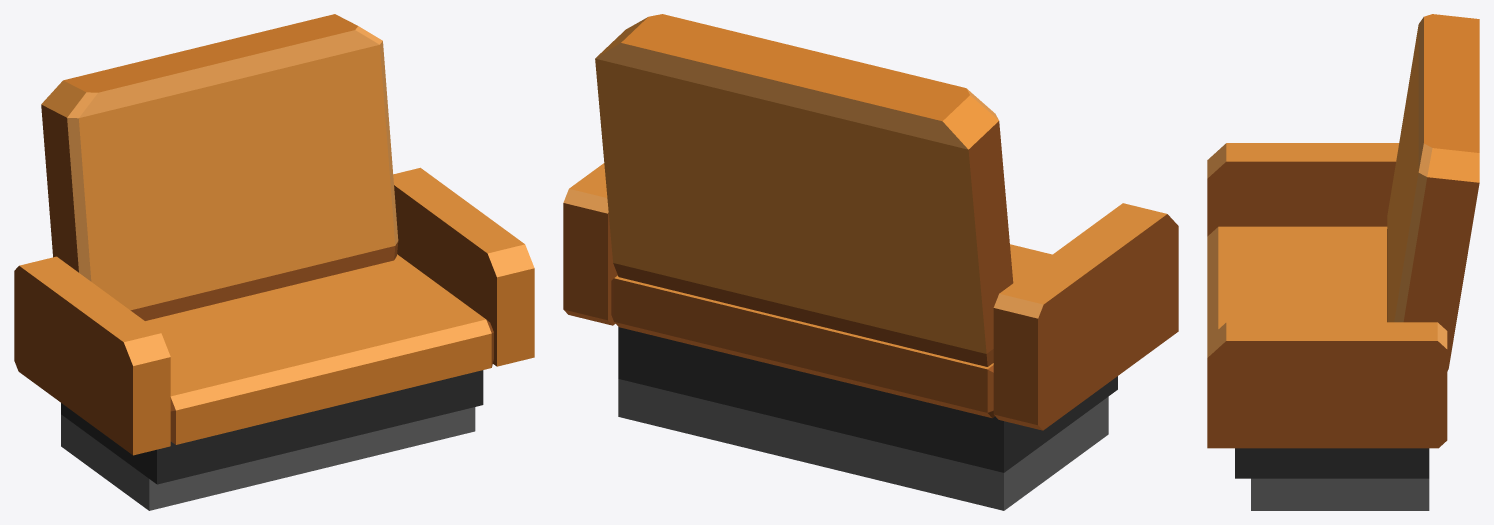
The model's file is CR_Sofa_TwoSeat.fbx.
3 renders of one model, left to right at view 1: azimuth 30°, elevation 25°; view 2: azimuth 150°, elevation 25°; view 3: azimuth 270°, elevation 25°, orthographic. The views are drawn at different scales.
Parts seen in each view (by area): view 1: CR_Sofa_TwoSeat; view 2: CR_Sofa_TwoSeat; view 3: CR_Sofa_TwoSeat.
Boxes of the visible parts, box(x1,y1,x2,y2) form: CR_Sofa_TwoSeat: box(14, 14, 534, 510); CR_Sofa_TwoSeat: box(563, 14, 1178, 510); CR_Sofa_TwoSeat: box(1207, 14, 1479, 510).
Size of the model in its own units: 1.61 by 1.33 by 0.9359.
